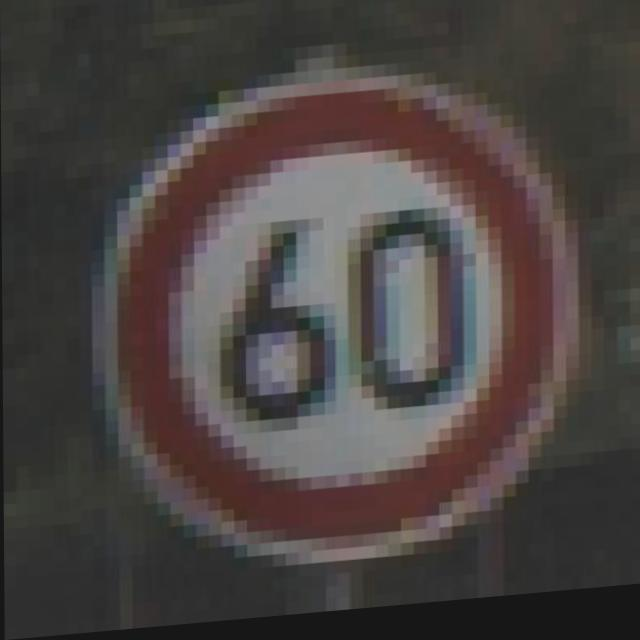limit60: (86, 54, 600, 592)
